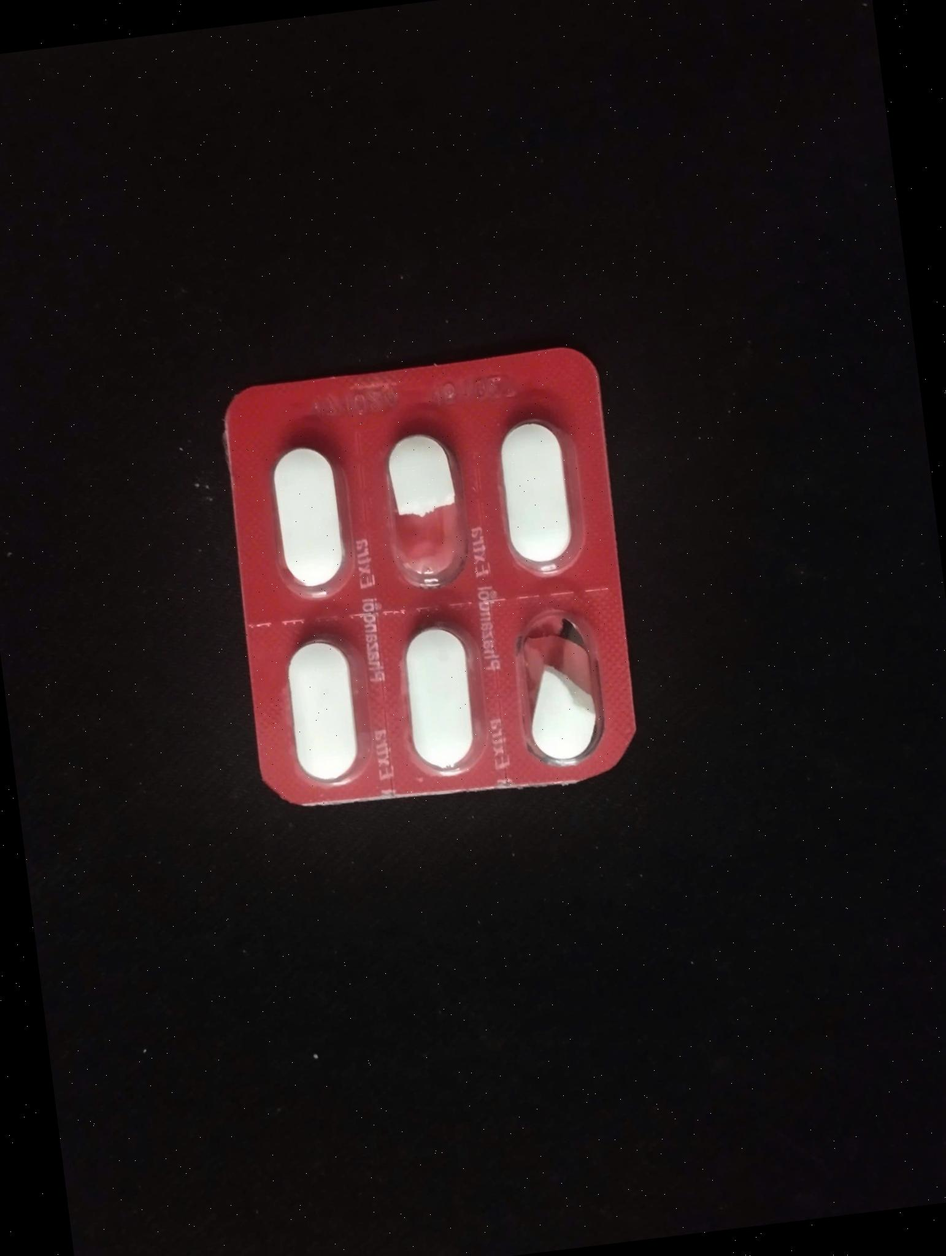Full: (274, 624, 385, 791), (263, 433, 360, 602), (486, 402, 580, 575), (399, 611, 491, 778)
Partial: (509, 600, 614, 771), (374, 413, 472, 591)
